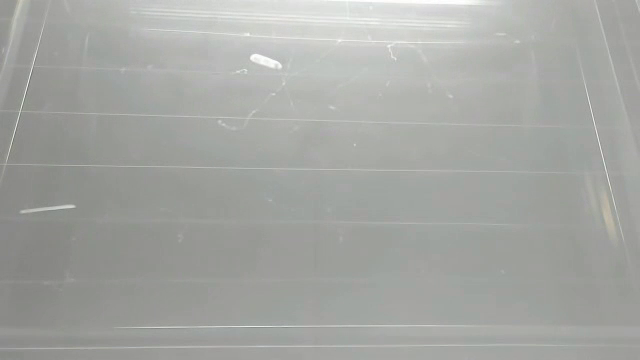alpha: (17, 199, 78, 219), (246, 50, 286, 74)
